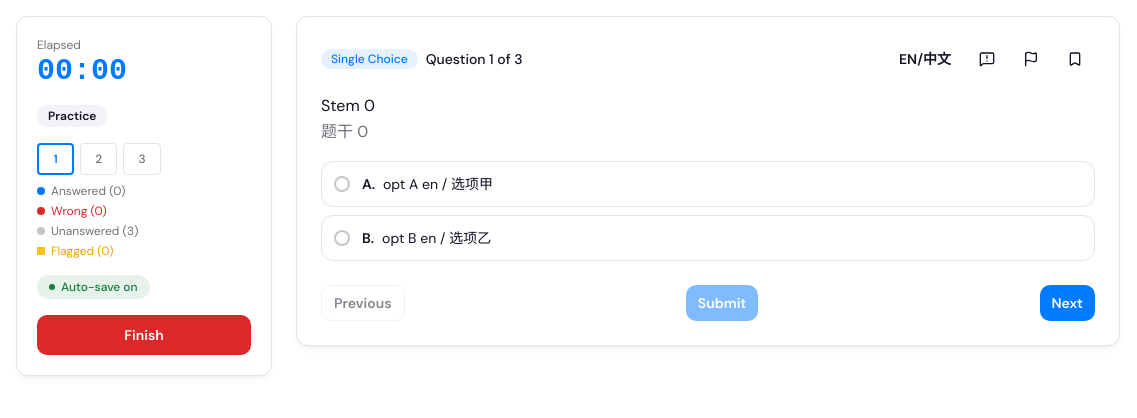
Test case: <PaperPlayer> resume (FR-PAPER-12) › re-hydrates a saved essay answer text
The image size is (1137, 418).
Expected: the text "Question 1 of 3" is shown, [426,49,522,69]
Click the button named "question 2 unanswered" at (99, 159), box [80,143,117,175]
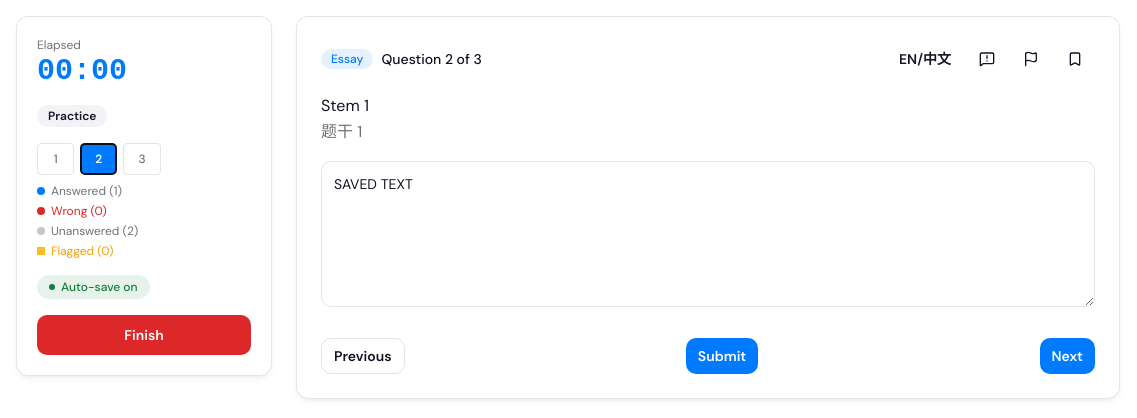
Now the text box named "essay answer" holds "SAVED TEXT", box [321,161,1095,307]
